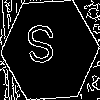S: (25, 25, 57, 72)
